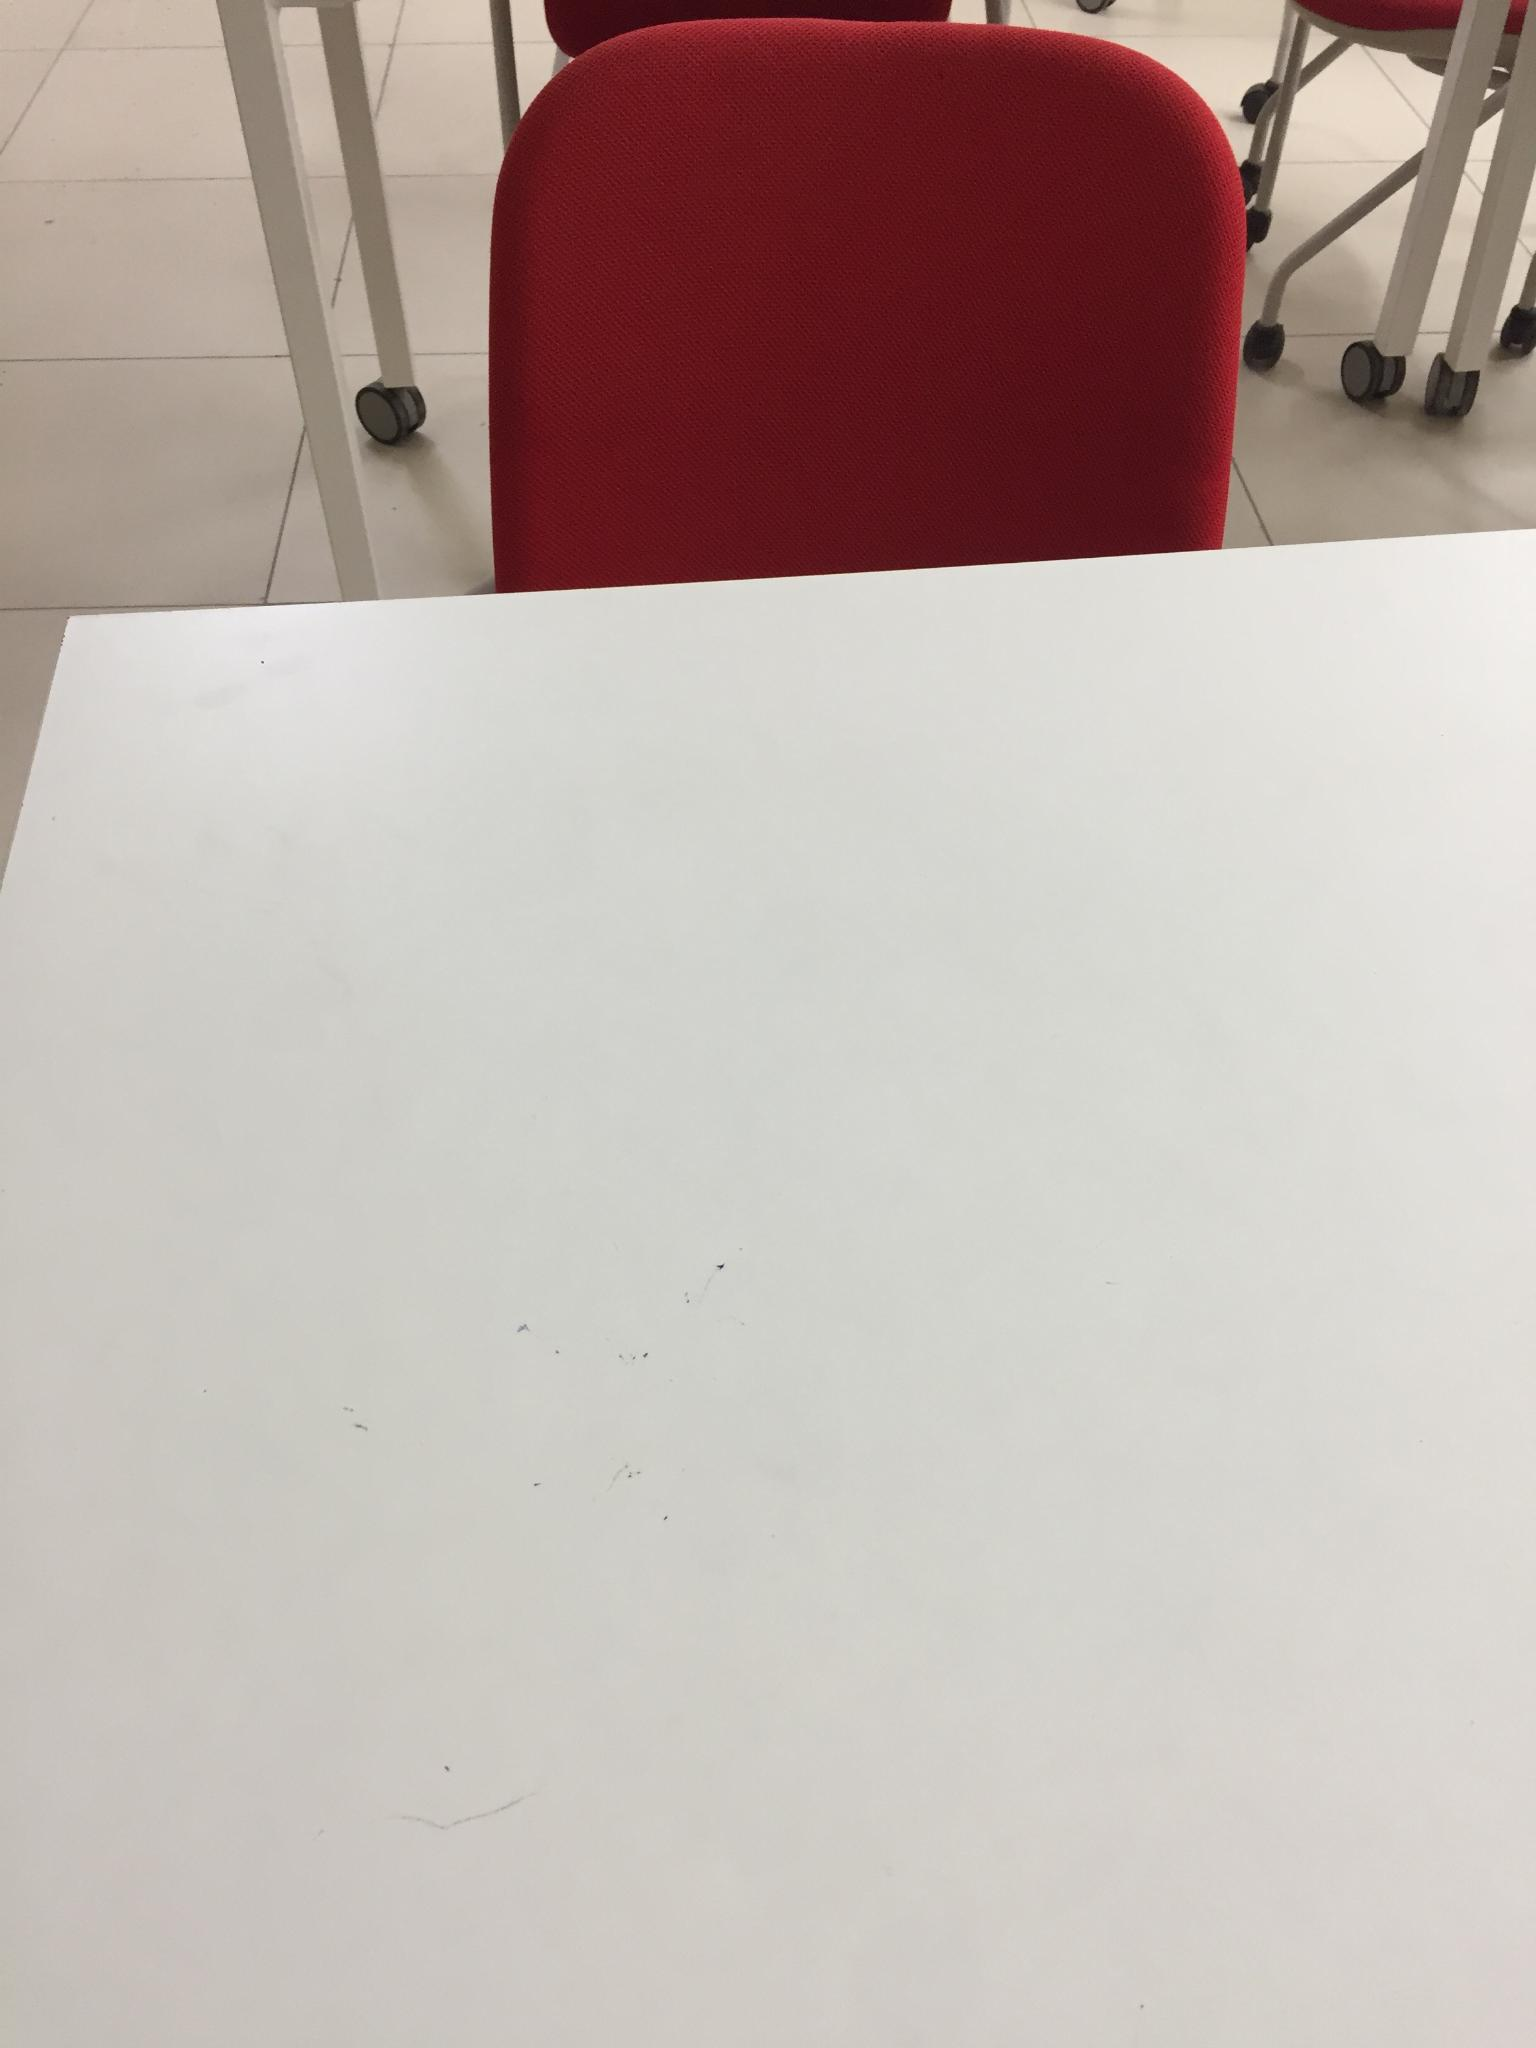chair: (486, 15, 1249, 592), (1238, 2, 1534, 419)
